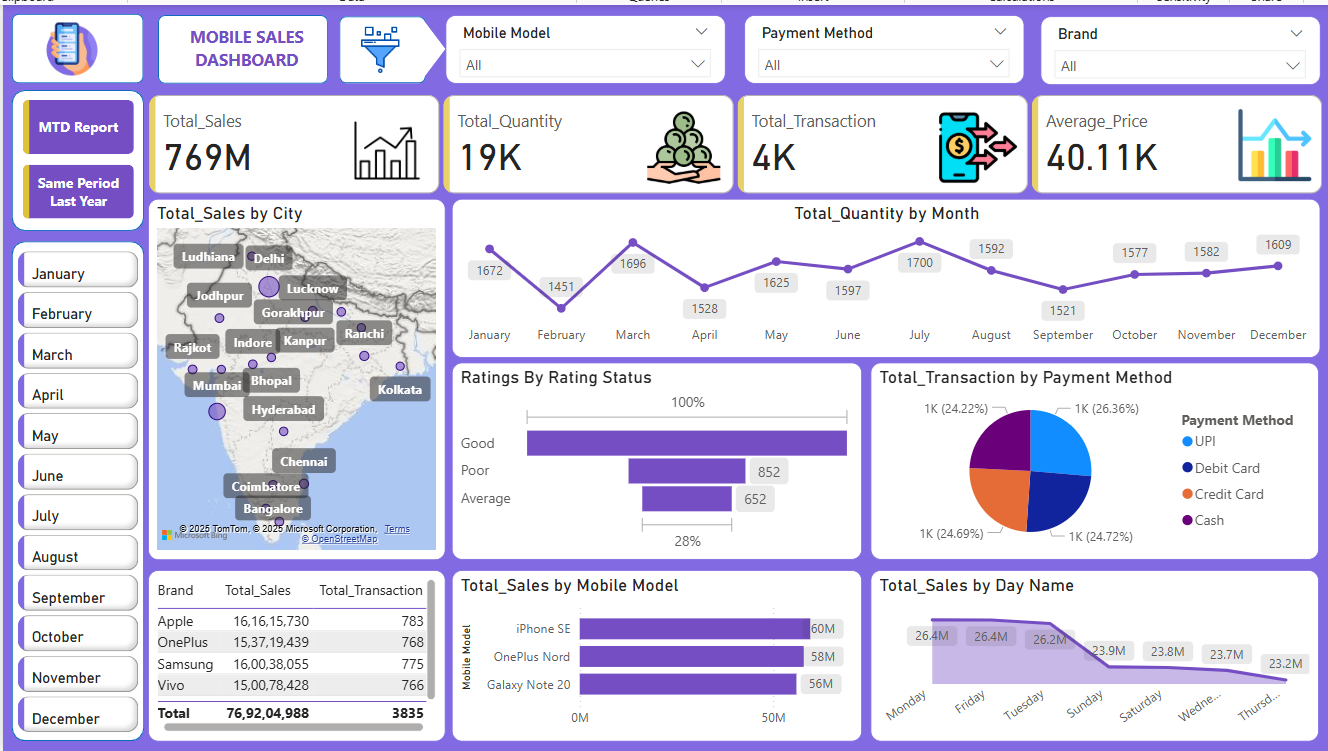

This screenshot's page, from the dashboard's own definition file:
{"tool":"powerbi","page":{"name":"Dashboard","canvas":[1280,720],"ordinal":0},"visuals":[{"type":"shape","box":[8.4,8.4,127.9,67.6],"z":0},{"type":"image","box":[36.2,12.5,61.2,61.2],"z":1000},{"type":"shape","box":[8.4,82,127.9,136.3],"z":2000},{"type":"shape","box":[8.4,228,127.9,482.6],"z":3000},{"type":"advancedSlicerVisual","fields":{"Values":["Custom_Calender.Date.Variation.Date Hierarchy.Month"]},"box":[10,232.5,126.2,477.5],"z":4000},{"type":"cardVisual","fields":{"Data":["Sales_Data.Total_Sales","Sales_Data.Total_Quantity","Sales_Data.Total_Transaction","Sales_Data.Average_Price"]},"box":[136.2,82.5,1143.8,105],"z":5000},{"type":"slicer","fields":{"Values":["Sales_Data.Mobile Model"]},"box":[427.5,10,270,66.2],"z":6000},{"type":"slicer","fields":{"Values":["Sales_Data.Payment Method"]},"box":[715,10,270,66.2],"z":7000},{"type":"shape","box":[325,11.2,83.8,65],"z":8000},{"type":"slicer","fields":{"Values":["Sales_Data.Brand"]},"box":[1001.2,11.2,270,66.2],"z":9000},{"type":"image","box":[325,16.2,78.8,55],"z":10000},{"type":"shape","box":[385,15,42.5,56.2],"z":11000},{"type":"shape","box":[149.6,9.7,164.1,66.4],"z":12000},{"type":"textbox","box":[151.2,15,168.8,53.8],"z":13000},{"type":"map","fields":{"Category":["Sales_Data.City"],"Size":["Sales_Data.Total_Sales"]},"box":[139.9,187,287.1,348.7],"z":14000},{"type":"lineChart","fields":{"Category":["Custom_Calender.Date.Variation.Date Hierarchy.Month"],"Y":["Sales_Data.Total_Quantity"]},"box":[433.1,187,838.5,153.2],"z":15000},{"type":"funnel","title":"Ratings By Rating Status","fields":{"Y":["CountNonNull(Sales_Data.Customer Ratings)"],"Category":["Sales_Data.Rating_Status"]},"box":[433.1,345,395.7,190.6],"z":16000},{"type":"pieChart","fields":{"Y":["Sales_Data.Total_Transaction"],"Category":["Sales_Data.Payment Method"]},"box":[837.3,345,433.1,190.6],"z":17000},{"type":"clusteredBarChart","fields":{"Y":["Sales_Data.Total_Sales"],"Category":["Sales_Data.Mobile Model"]},"box":[433.1,545.3,395.7,165.3],"z":18000},{"type":"areaChart","fields":{"Y":["Sales_Data.Total_Sales"],"Category":["Custom_Calender.Day Name"]},"box":[837.3,545.3,433.1,165.3],"z":19000},{"type":"tableEx","fields":{"Values":["Sales_Data.Brand","Sales_Data.Total_Sales","Sales_Data.Total_Transaction"]},"box":[139.9,545.3,287.1,165.3],"z":20000},{"type":"pageNavigator","box":[19.3,91.7,107.4,114.6],"z":21000}]}

Visuals, with their boxes in screenshot pixels (x1, y1, x2, y2):
shape: [left=12, top=16, right=143, bottom=85]
image: [left=40, top=20, right=103, bottom=82]
shape: [left=12, top=91, right=143, bottom=230]
shape: [left=12, top=240, right=143, bottom=734]
advancedSlicerVisual - Custom_Calender.Date.Variation.Date Hierarchy.Month: [left=14, top=245, right=143, bottom=733]
cardVisual - Sales_Data.Total_Sales x Sales_Data.Total_Quantity: [left=143, top=91, right=1313, bottom=199]
slicer - Sales_Data.Mobile Model: [left=441, top=17, right=717, bottom=85]
slicer - Sales_Data.Payment Method: [left=735, top=17, right=1011, bottom=85]
shape: [left=336, top=18, right=422, bottom=85]
slicer - Sales_Data.Brand: [left=1028, top=18, right=1304, bottom=86]
image: [left=336, top=23, right=417, bottom=80]
shape: [left=397, top=22, right=441, bottom=80]
shape: [left=157, top=17, right=324, bottom=85]
textbox: [left=158, top=22, right=331, bottom=77]
map - Sales_Data.City x Sales_Data.Total_Sales: [left=147, top=198, right=440, bottom=555]
lineChart - Custom_Calender.Date.Variation.Date Hierarchy.Month x Sales_Data.Total_Quantity: [left=447, top=198, right=1305, bottom=355]
"Ratings By Rating Status" funnel: [left=447, top=360, right=851, bottom=555]
pieChart - Sales_Data.Total_Transaction x Sales_Data.Payment Method: [left=860, top=360, right=1303, bottom=555]
clusteredBarChart - Sales_Data.Total_Sales x Sales_Data.Mobile Model: [left=447, top=565, right=851, bottom=734]
areaChart - Sales_Data.Total_Sales x Custom_Calender.Day Name: [left=860, top=565, right=1303, bottom=734]
tableEx - Sales_Data.Brand x Sales_Data.Total_Sales: [left=147, top=565, right=440, bottom=734]
pageNavigator: [left=23, top=101, right=133, bottom=218]
